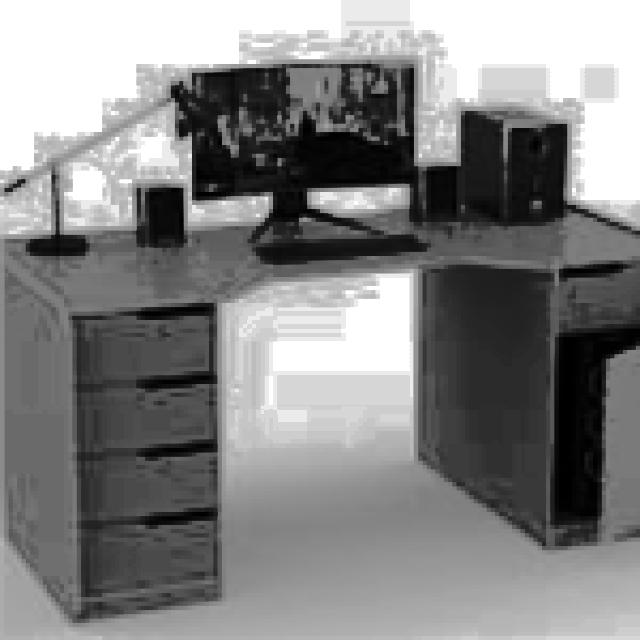table: (0, 192, 636, 623)
